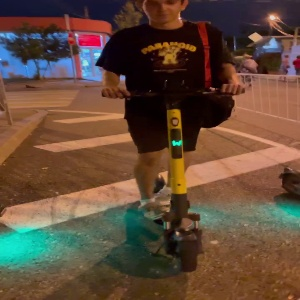human on a scooter: (94, 1, 248, 274)
